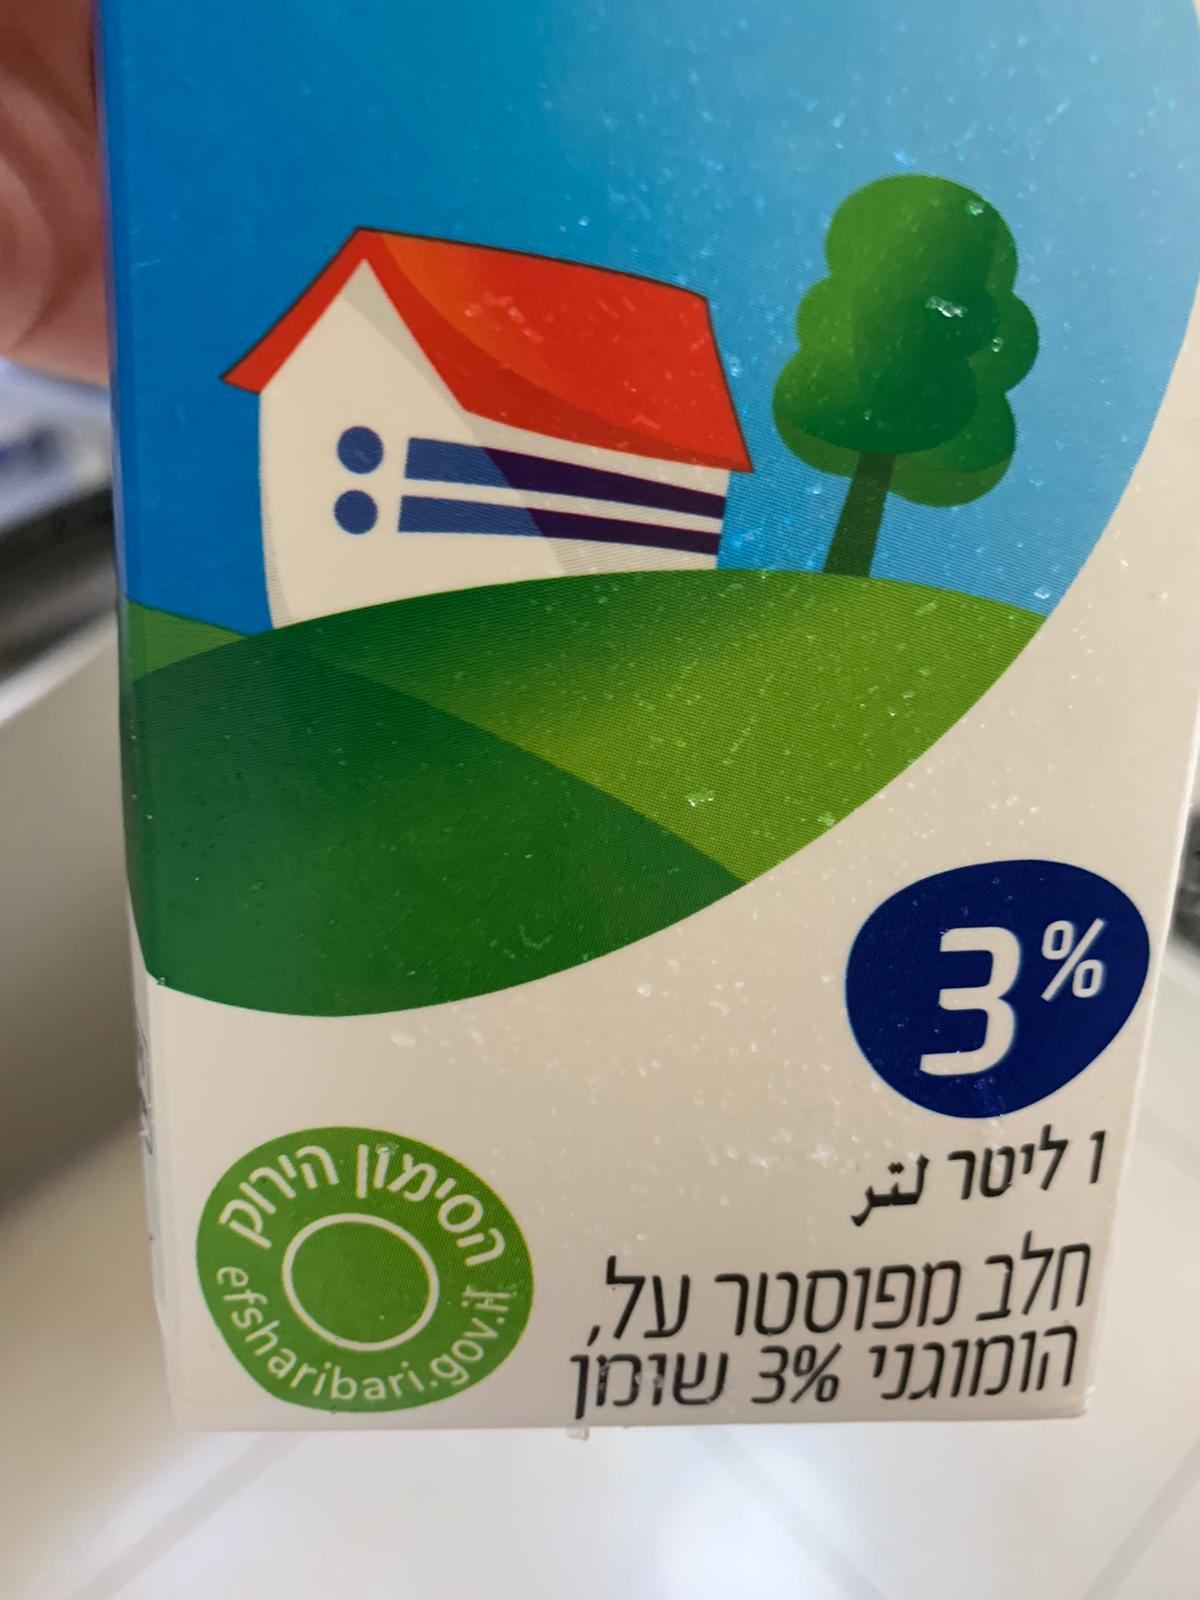green: (192, 1126, 541, 1416)
